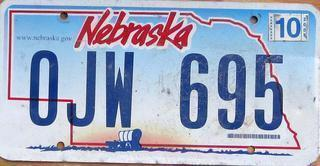placa de veiculo: (7, 2, 316, 166)
